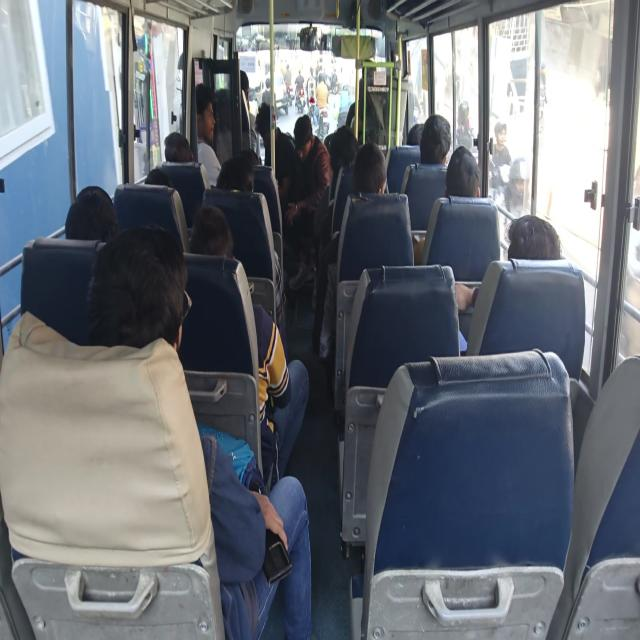person: (86, 224, 312, 638), (189, 204, 309, 488), (318, 140, 388, 360), (455, 213, 562, 353), (284, 114, 332, 290), (414, 144, 481, 264), (254, 101, 298, 201), (64, 184, 119, 242), (195, 82, 222, 188), (506, 214, 562, 260), (239, 69, 262, 161), (444, 145, 481, 197), (503, 157, 531, 218), (419, 114, 451, 166), (490, 120, 511, 168), (164, 132, 194, 162)
